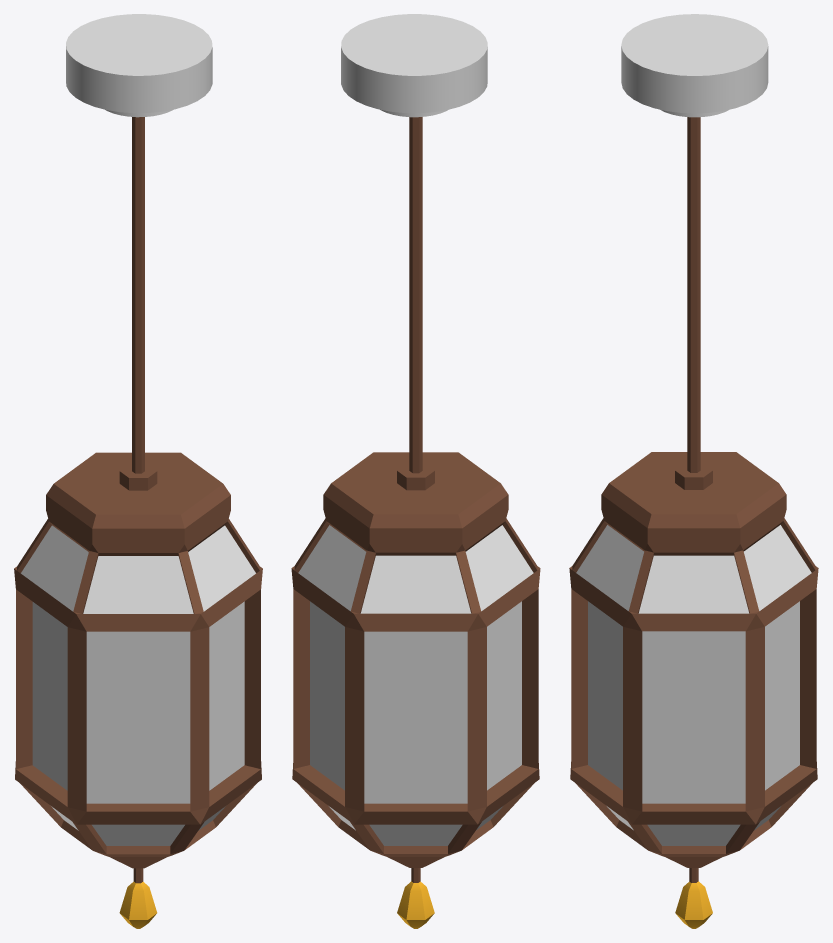
Rendered from NicheLamp01.fbx.
The picture shows the model from 3 angles, left to right: view 1: azimuth 30°, elevation 25°; view 2: azimuth 150°, elevation 25°; view 3: azimuth 270°, elevation 25°; orthographic projection.
Visible parts, largest first — view 1: Lamp01.001, Circle.179, Cylinder.078; view 2: Lamp01.001, Circle.179, Cylinder.078; view 3: Lamp01.001, Circle.179, Cylinder.078.
Boxes of the visible parts, box(x1,y1,x2,y2) form: Lamp01.001: box(14, 117, 262, 883); Circle.179: box(66, 14, 212, 113); Cylinder.078: box(119, 881, 157, 928); Lamp01.001: box(291, 117, 540, 882); Circle.179: box(341, 14, 487, 113); Cylinder.078: box(397, 881, 434, 928); Lamp01.001: box(569, 117, 818, 882); Circle.179: box(621, 14, 768, 113); Cylinder.078: box(675, 881, 712, 928).
Bounding box in the file's own units: 14.45 × 62.98 × 16.1.
